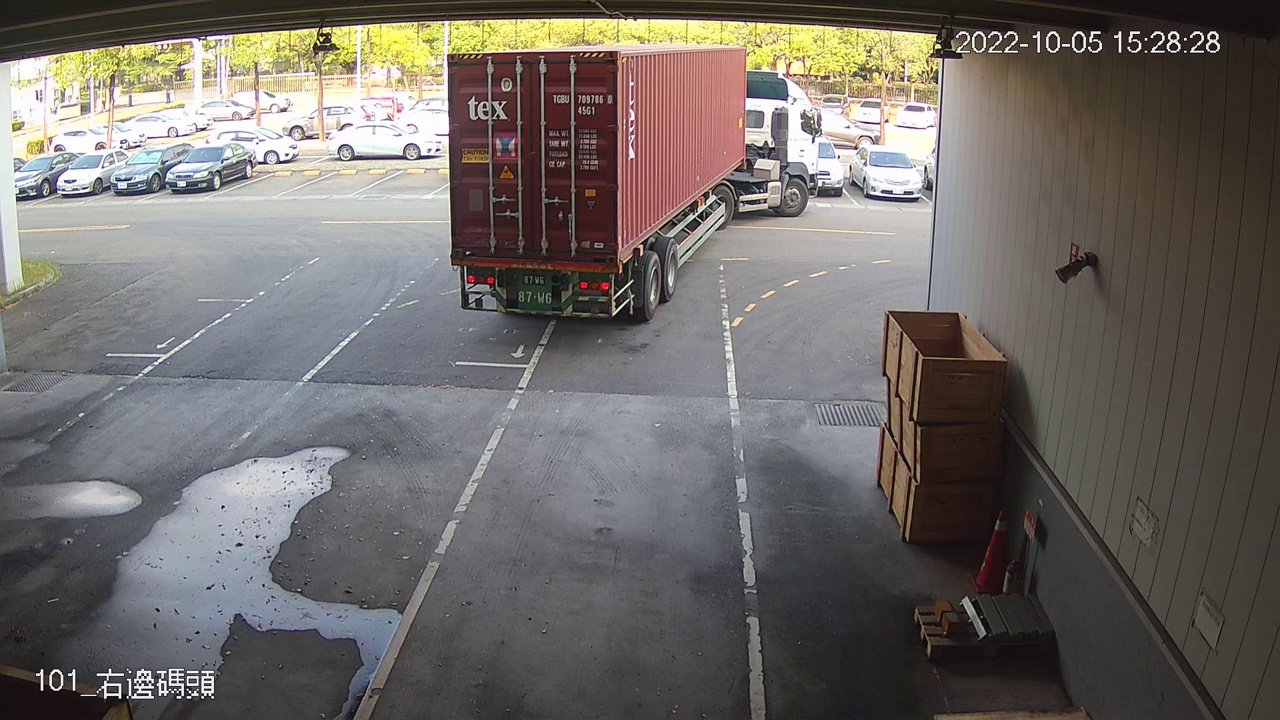container: (548, 90, 616, 119)
